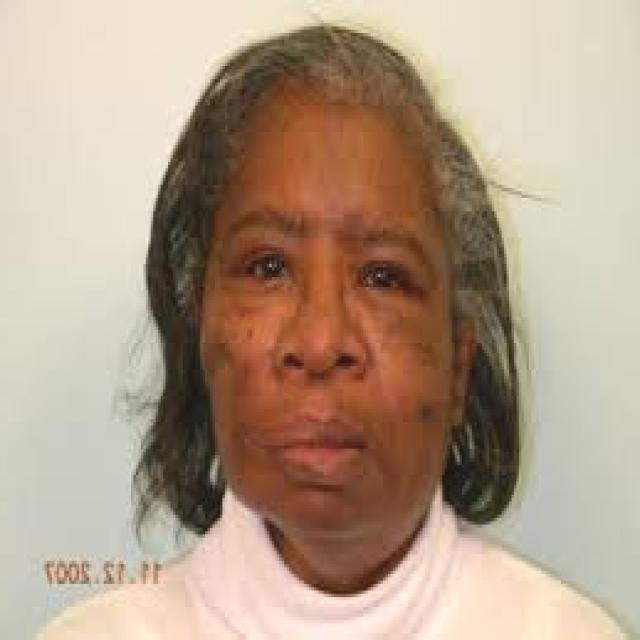stroke_face: (176, 81, 486, 554)
